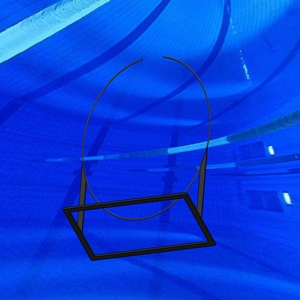circle: (62, 55, 218, 262)
